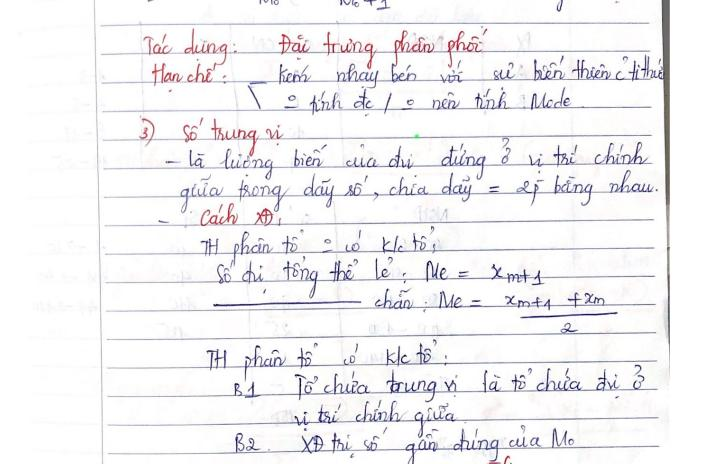text: (178, 169, 660, 214), (186, 136, 651, 181), (213, 255, 547, 300), (293, 362, 646, 404), (276, 54, 666, 90), (373, 286, 618, 336), (296, 423, 576, 464), (204, 336, 440, 381), (197, 224, 437, 267), (281, 85, 573, 120), (275, 27, 488, 71), (293, 400, 459, 438), (180, 115, 286, 157), (140, 26, 229, 66), (150, 61, 220, 94), (196, 202, 276, 229), (337, 0, 391, 12), (232, 379, 262, 400), (233, 432, 261, 454), (136, 117, 155, 148), (554, 0, 564, 14)
